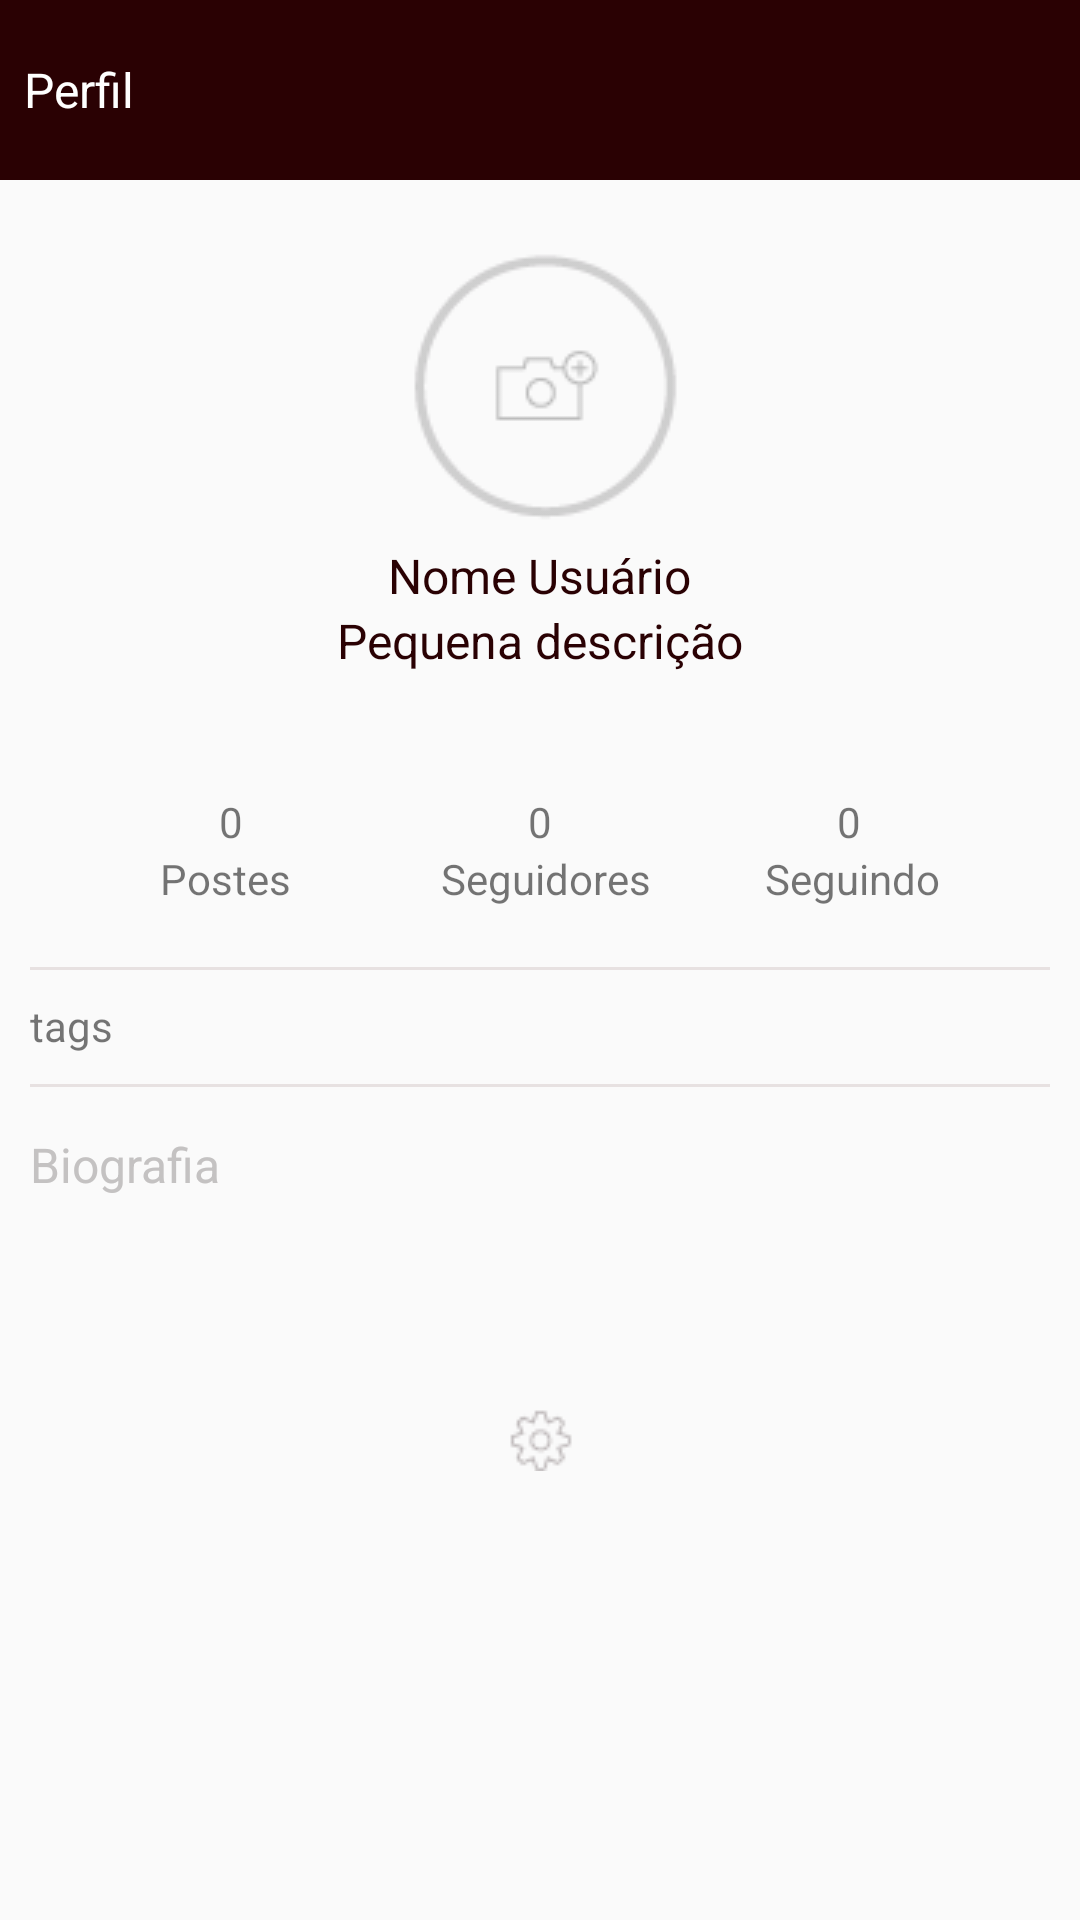

Named icons in this screenshot (1080w x 1920h) and their bounding boxes, (x1, y1, x2, y2):
configuracoes: (511, 1411, 571, 1471)
foto: (415, 257, 675, 516)
